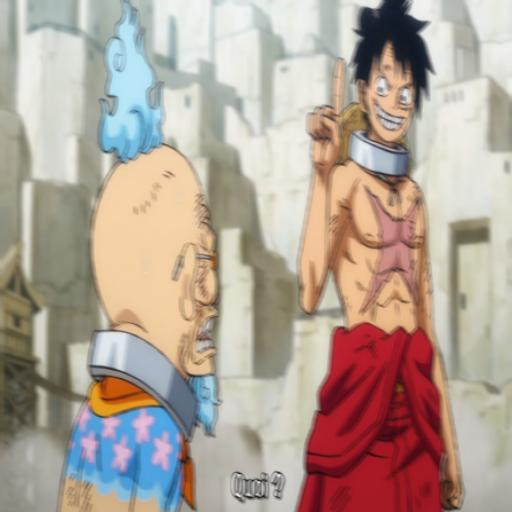Luffy: (300, 0, 470, 512)
